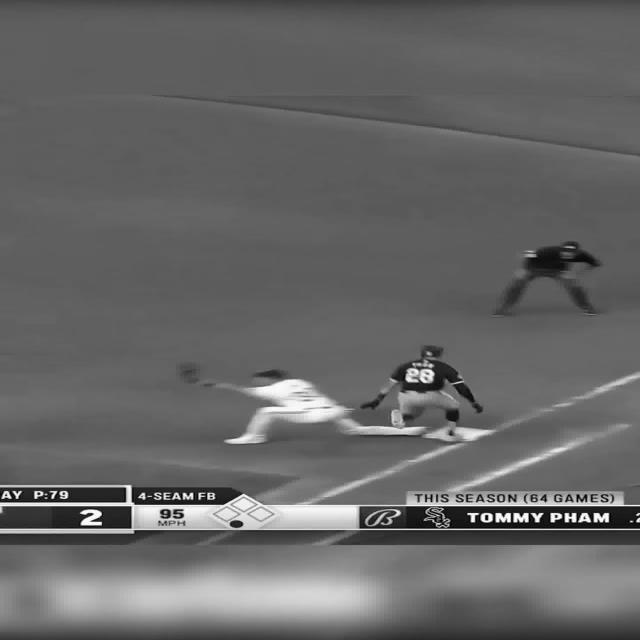base: (422, 426, 493, 442)
baseball_glove: (176, 362, 200, 384)
shoe: (425, 428, 462, 442), (224, 434, 267, 445), (391, 409, 407, 429), (402, 426, 431, 436)
